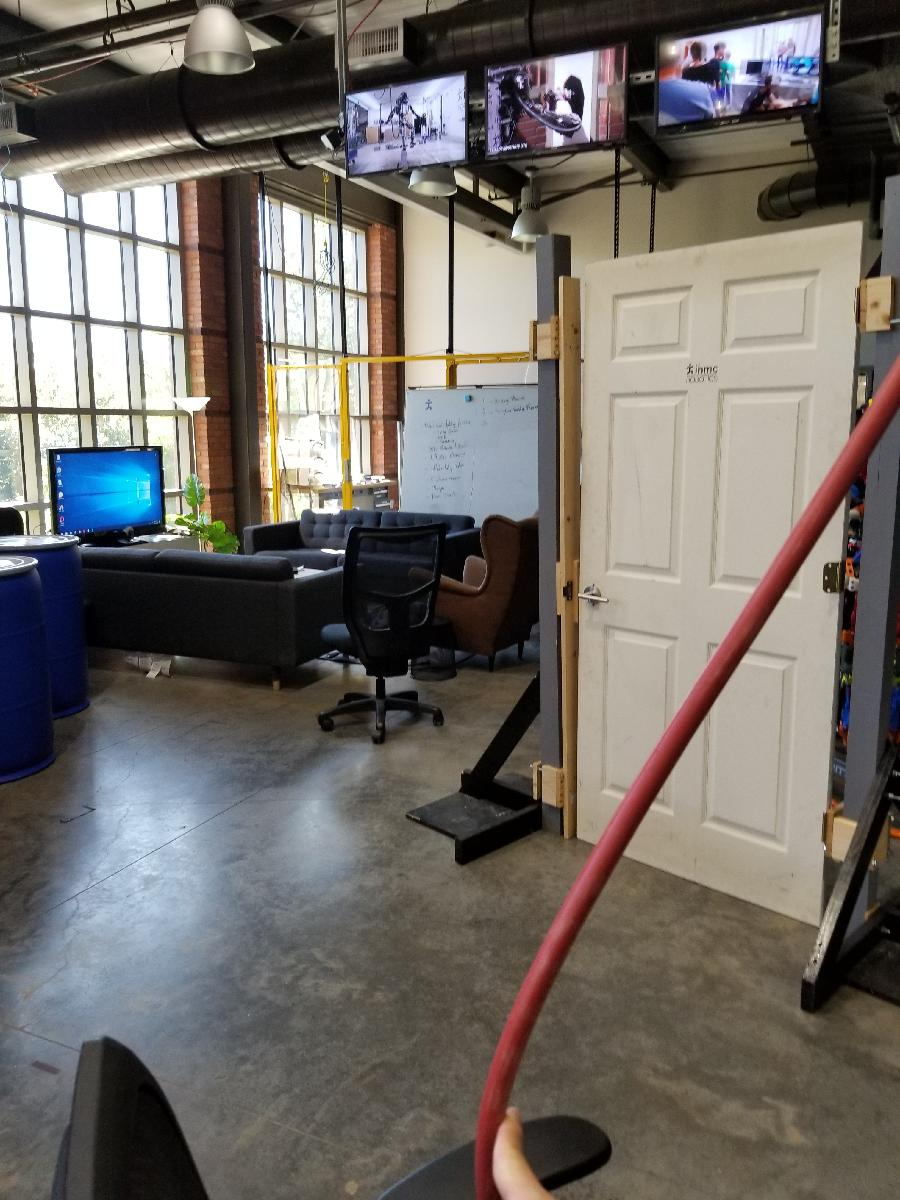door: (572, 215, 871, 936)
doorHandle: (578, 580, 612, 609)
